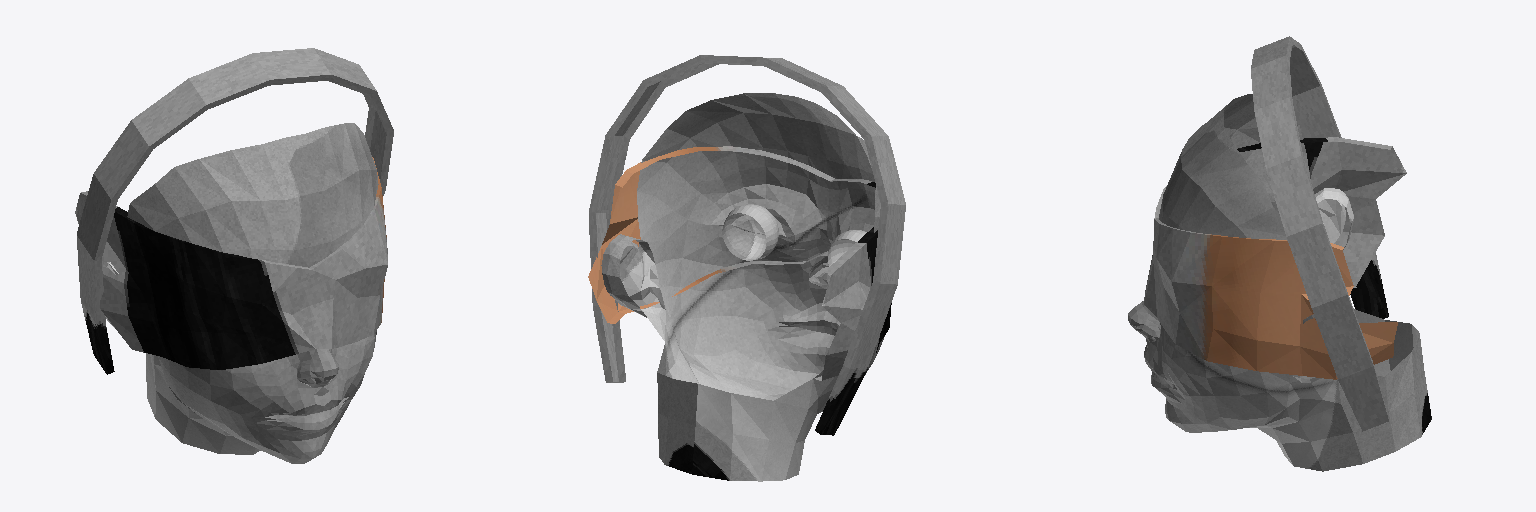
The picture shows the model from 3 angles: view 1: azimuth 30°, elevation 25°; view 2: azimuth 150°, elevation 25°; view 3: azimuth 270°, elevation 25°; orthographic projection.
Visible parts, largest first — view 1: Nier2b:Cube polySurface6, Nier2b:Cube polySurface1, Nier2b:Cube polySurface2; view 2: Nier2b:Cube polySurface6, Nier2b:Cube polySurface2, Nier2b:Cube polySurface1, Nier2b:Cube polySurface3, polySurface4 Nier2b:Cube; view 3: Nier2b:Cube polySurface6, Nier2b:Cube polySurface1, Nier2b:Cube polySurface2.
Part boxes in pixels (x1,y1,x2,y2): Nier2b:Cube polySurface6: (103, 123, 378, 463); Nier2b:Cube polySurface1: (75, 157, 387, 369); Nier2b:Cube polySurface2: (77, 48, 393, 374); Nier2b:Cube polySurface6: (601, 93, 884, 481); Nier2b:Cube polySurface2: (589, 55, 905, 435); Nier2b:Cube polySurface1: (588, 146, 891, 380); Nier2b:Cube polySurface3: (722, 204, 778, 260); polySurface4 Nier2b:Cube: (828, 230, 866, 266); Nier2b:Cube polySurface6: (1128, 94, 1431, 471); Nier2b:Cube polySurface1: (1144, 137, 1406, 379); Nier2b:Cube polySurface2: (1251, 36, 1388, 431).
Bounding box in the file's own units: 4.07 × 5.36 × 3.68.
1 materials, 1 textured.